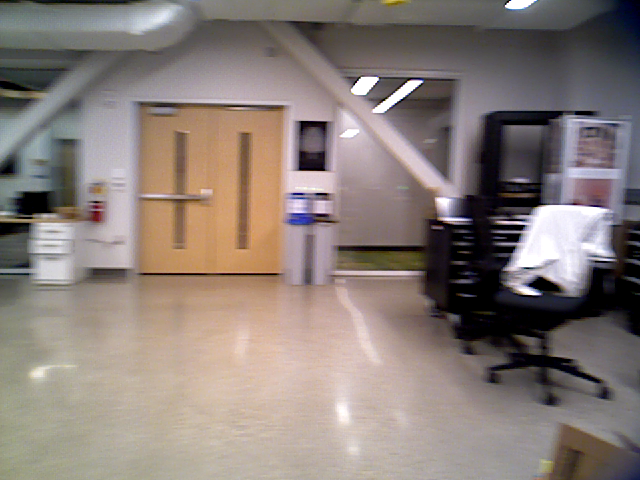painting1: (289, 122, 335, 173)
